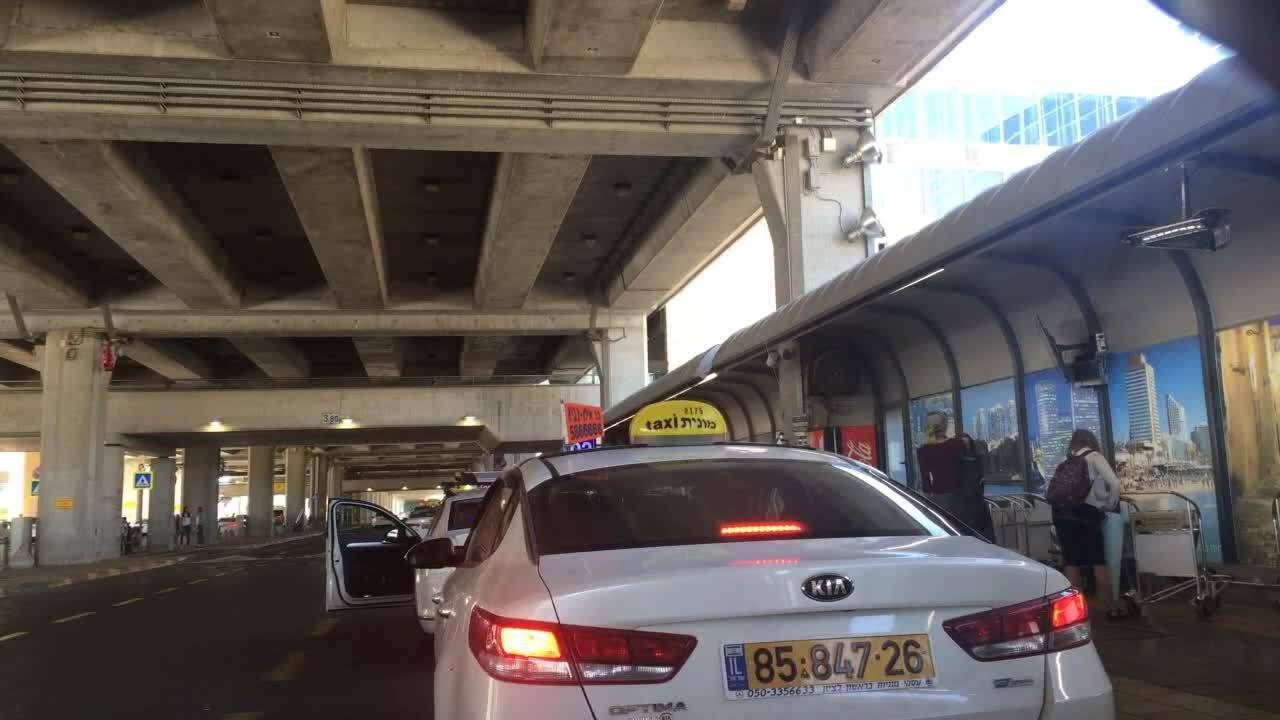kia: (797, 567, 860, 607)
